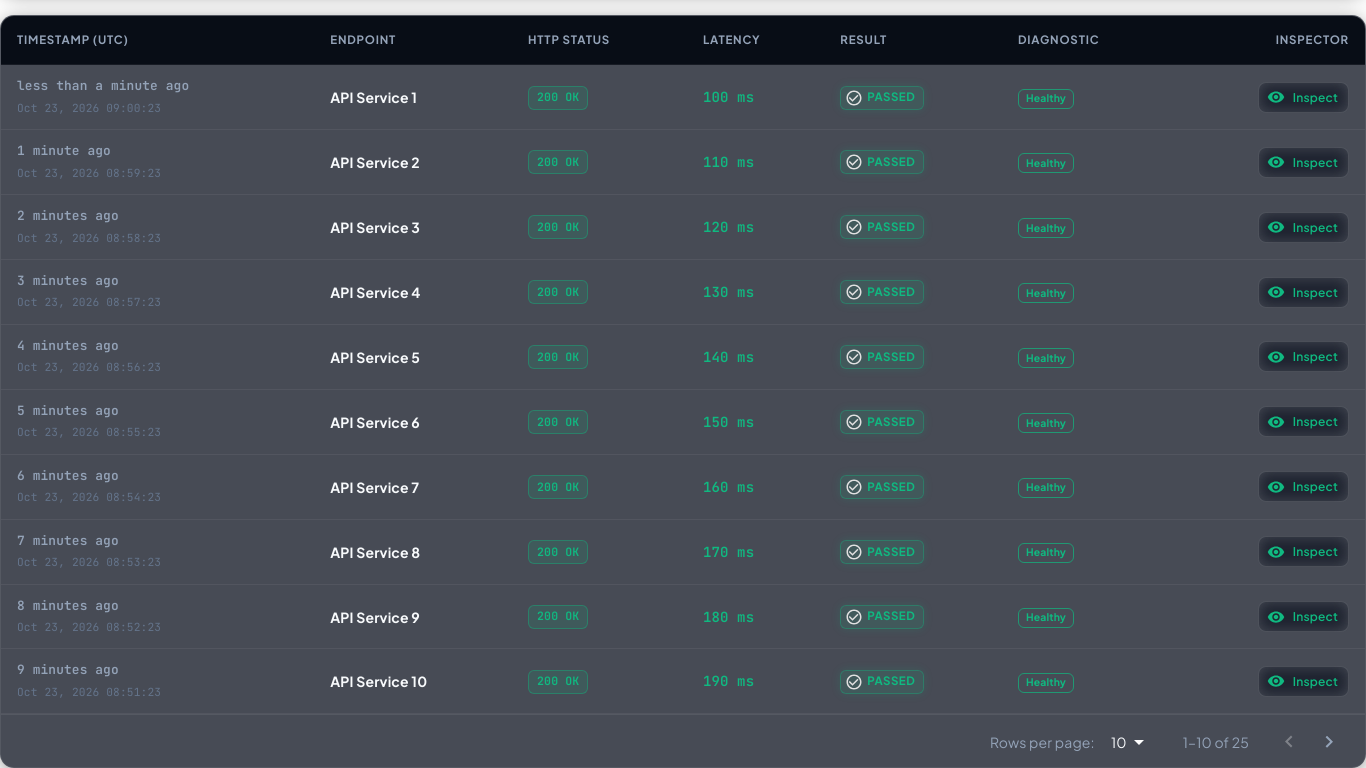
Test: Pagination Controls and Behavior › ExecutionHistoryPage Pagination › navigates to next page on pagination button click
The width and height of the screenshot is (1366, 768).
(page scrolled)
What coordinates should you click on to do the following:
click the button titled "Go to next page"
I would click on:
 (1329, 742)
Its box is [1309,722,1349,762].
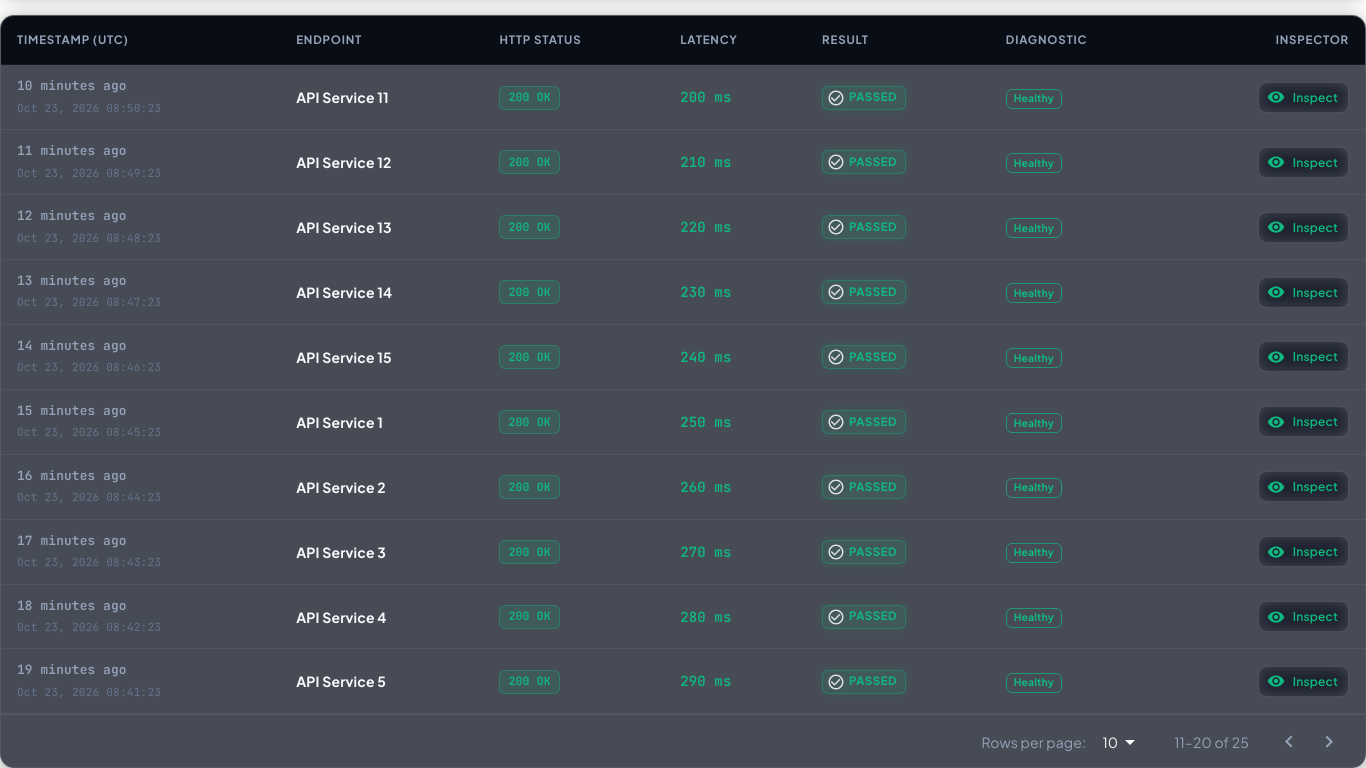
Check: the text "11–20 of 25" is shown, box [1174,732,1249,752]
